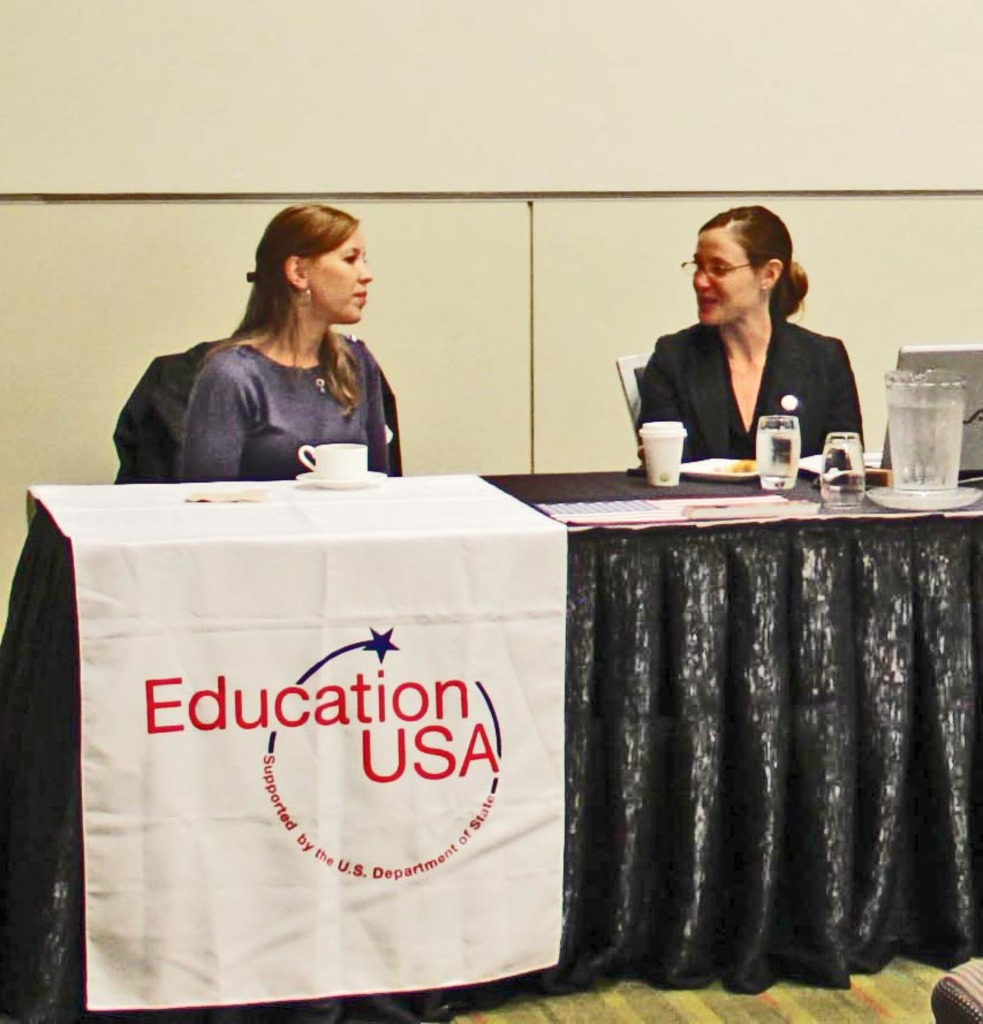Table: (76, 424, 863, 1003)
